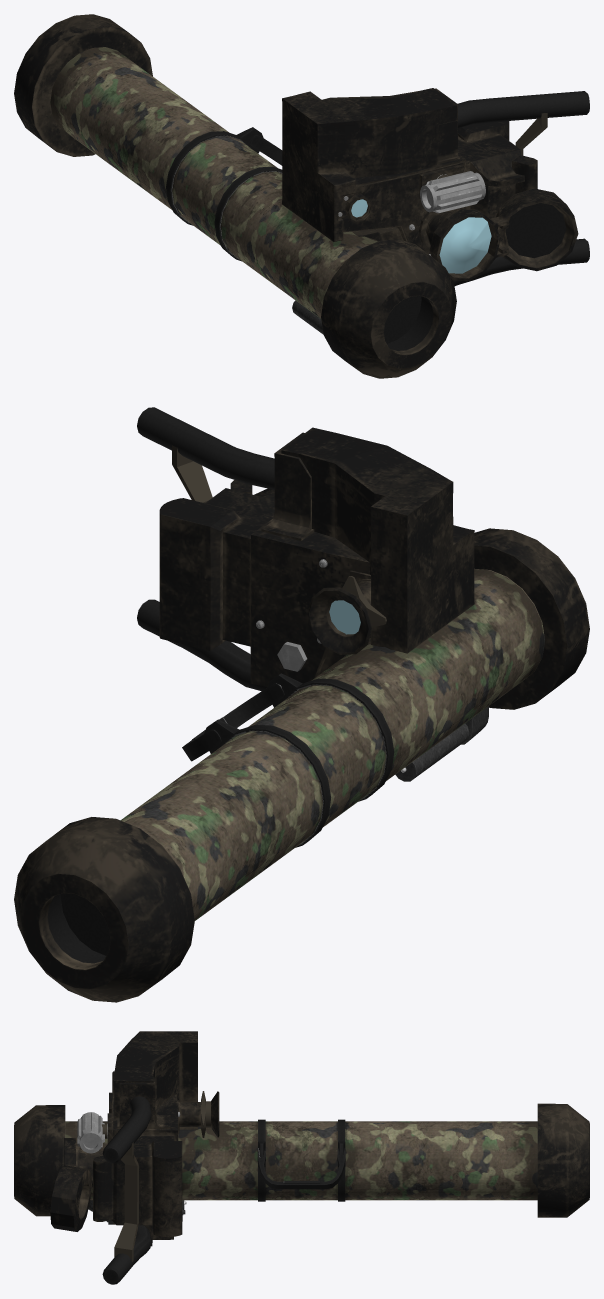
File: Javelin.fbx
3 views of the same model, one above another, from view 1: azimuth 30°, elevation 25°; view 2: azimuth 150°, elevation 25°; view 3: azimuth 270°, elevation 25° (orthographic). The views are drawn at different scales.
Parts seen in each view (by area): view 1: Javelin01_low; view 2: Javelin01_low; view 3: Javelin01_low.
Part boxes in pixels (x1,y1,x2,y2): Javelin01_low: (14,14,589,378); Javelin01_low: (14,407,589,1002); Javelin01_low: (14,1031,589,1284).
Size of the model in its own units: 85.49 by 59.8 by 173.
Materials: 1 (1 with a texture image).
